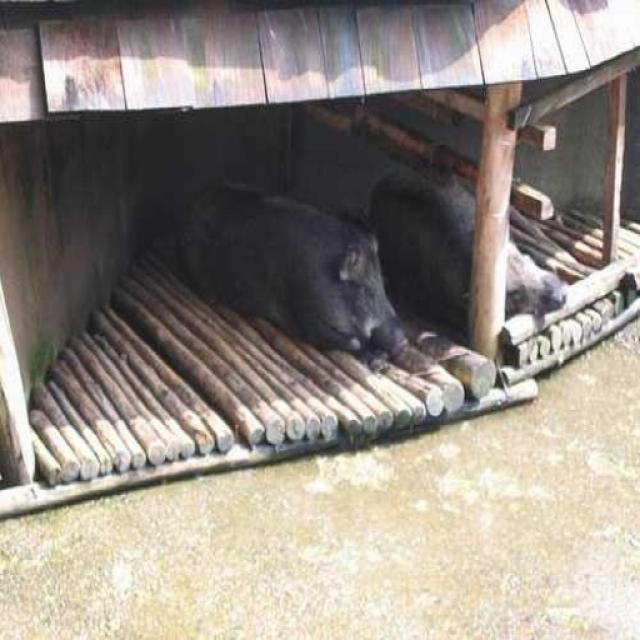pig: (154, 164, 426, 418), (390, 162, 607, 390)
